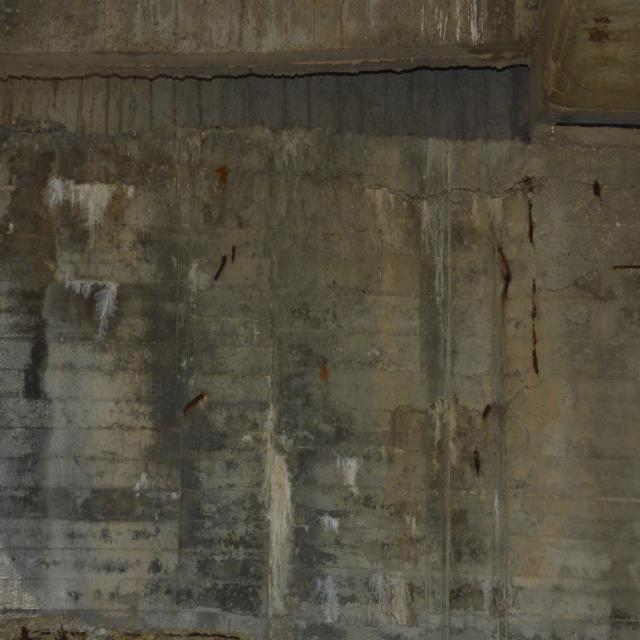corrosion: (483, 172, 561, 382), (453, 394, 500, 487), (9, 624, 251, 640), (206, 240, 242, 284), (313, 349, 340, 397), (177, 388, 216, 420), (586, 176, 608, 210), (213, 160, 233, 192), (610, 264, 640, 274)
